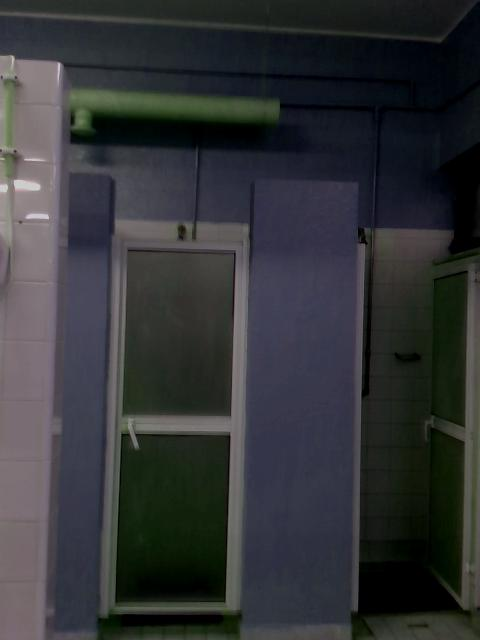closed_door: (98, 237, 251, 621)
